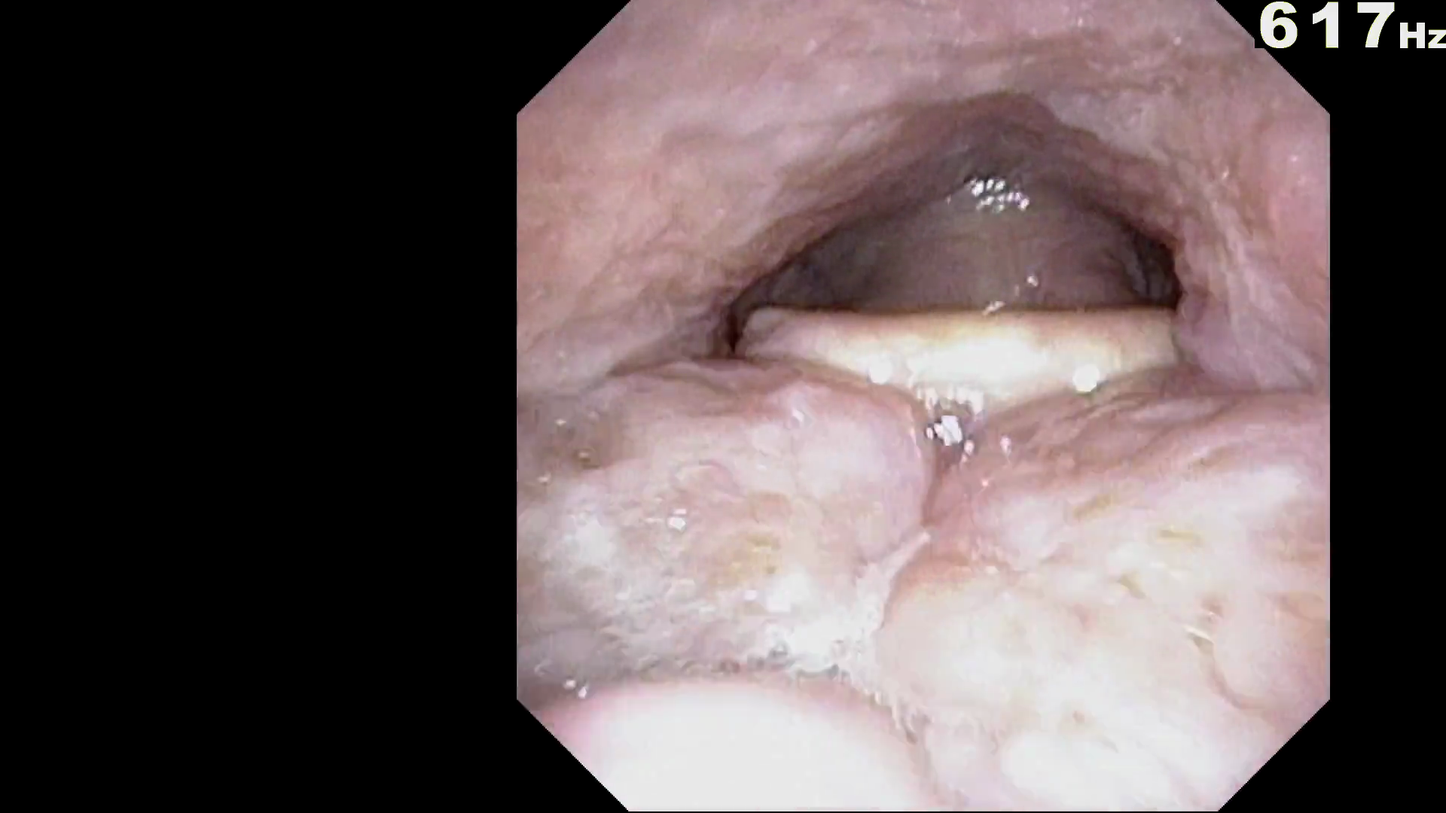epiglottis: (722, 270, 1233, 481)
trachea: (868, 212, 1024, 397)
